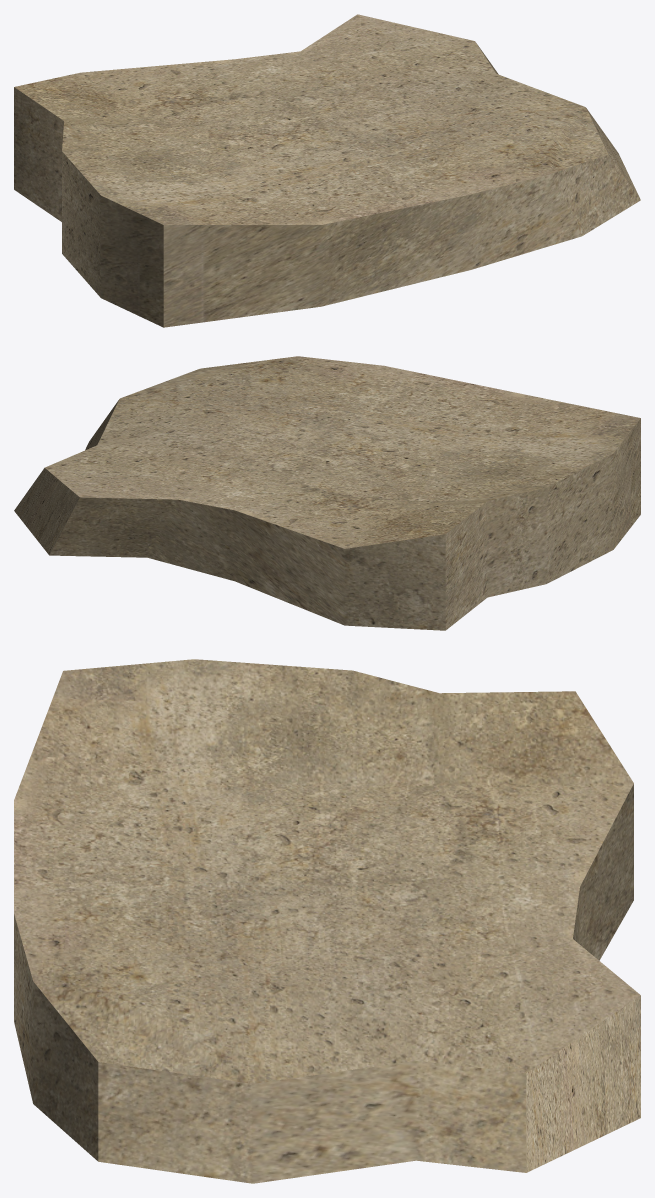
The model's file is ConChunk4.FBX.
3 renders of one model, top to bottom at view 1: azimuth 30°, elevation 25°; view 2: azimuth 150°, elevation 25°; view 3: azimuth 270°, elevation 25°, orthographic. The views are drawn at different scales.
Parts seen in each view (by area): view 1: Box01; view 2: Box01; view 3: Box01.
Part boxes in pixels (x1,y1,x2,y2): Box01: (14,14,640,327); Box01: (14,356,640,630); Box01: (14,659,640,1183).
Bounding box in the file's own units: 1.03 × 0.1905 × 0.7288.
